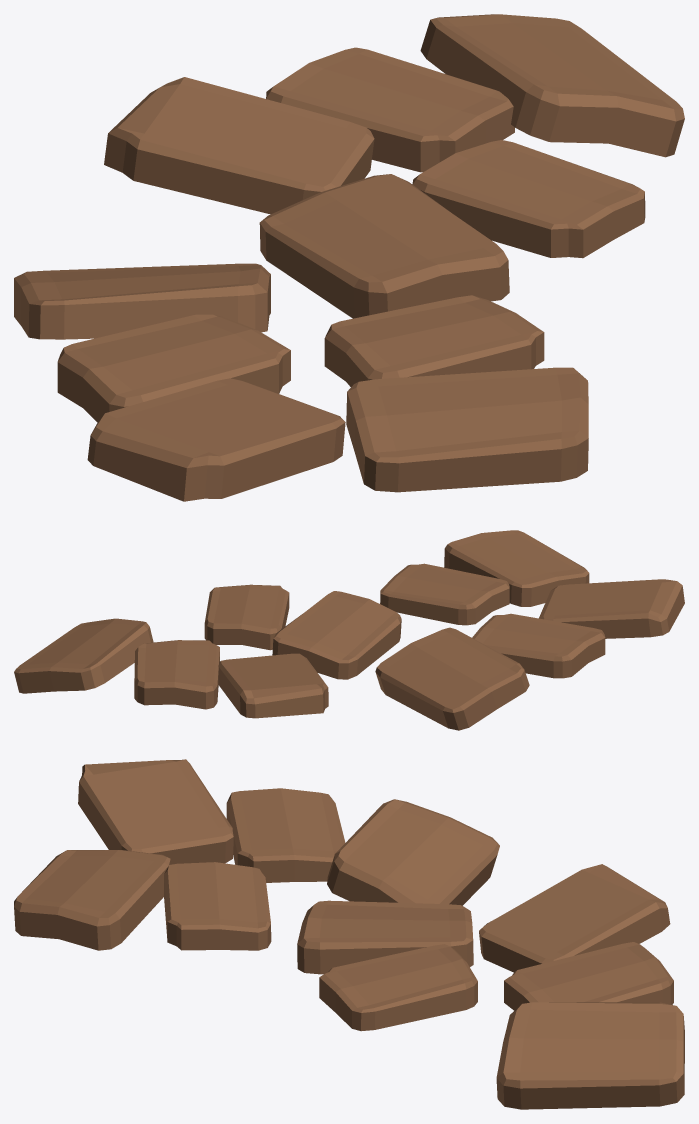
The model's file is piso 3.fbx.
3 renders of one model, top to bottom at view 1: azimuth 30°, elevation 25°; view 2: azimuth 150°, elevation 25°; view 3: azimuth 270°, elevation 25°, orthographic. The views are drawn at different scales.
Visible parts, largest first — view 1: Floor Filling c.005, Floor Filling c.006; view 2: Floor Filling c.006, Floor Filling c.005; view 3: Floor Filling c.005, Floor Filling c.006.
Boxes of the visible parts, <box> form: Floor Filling c.005: <box>104,14,684,318</box>; Floor Filling c.006: <box>14,263,588,501</box>; Floor Filling c.006: <box>375,530,684,730</box>; Floor Filling c.005: <box>14,584,401,718</box>; Floor Filling c.005: <box>297,864,684,1109</box>; Floor Filling c.006: <box>14,759,499,950</box>.
Size of the model in its own units: 312 by 35.03 by 301.
